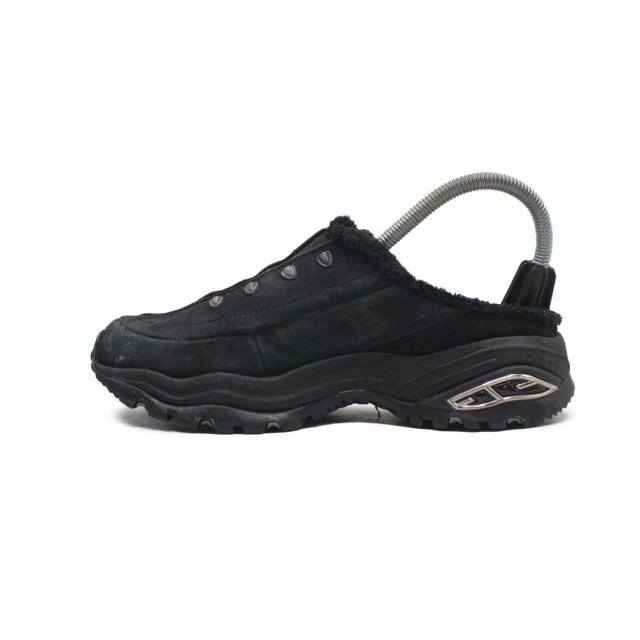heel: (492, 254, 560, 338)
midsole: (90, 331, 574, 434)
uppersole: (93, 214, 490, 379)
